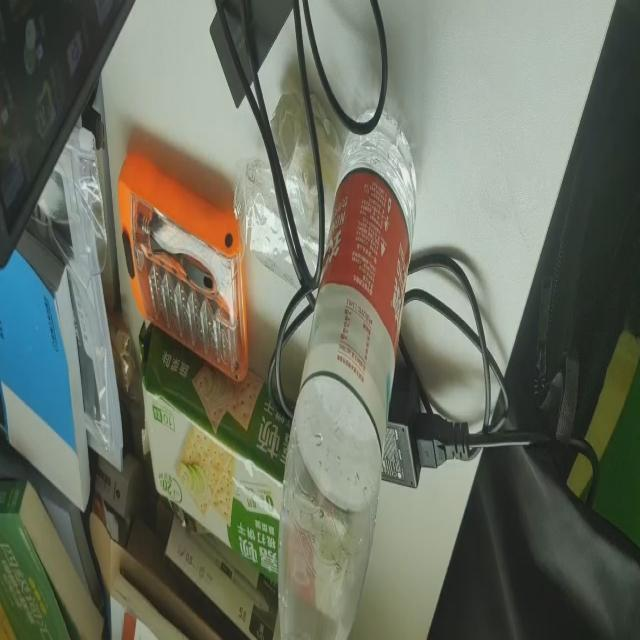good: (272, 97, 420, 640)
